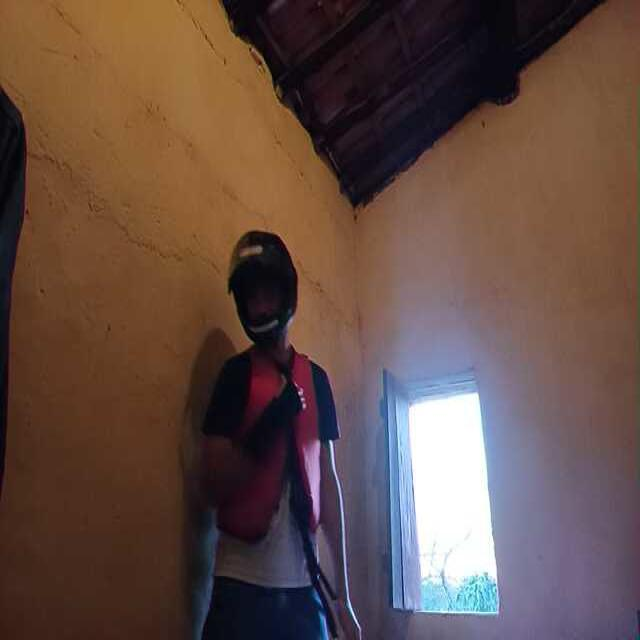capacete: (226, 237, 307, 335)
colete: (222, 350, 320, 533)
pessoa: (198, 229, 359, 634)
